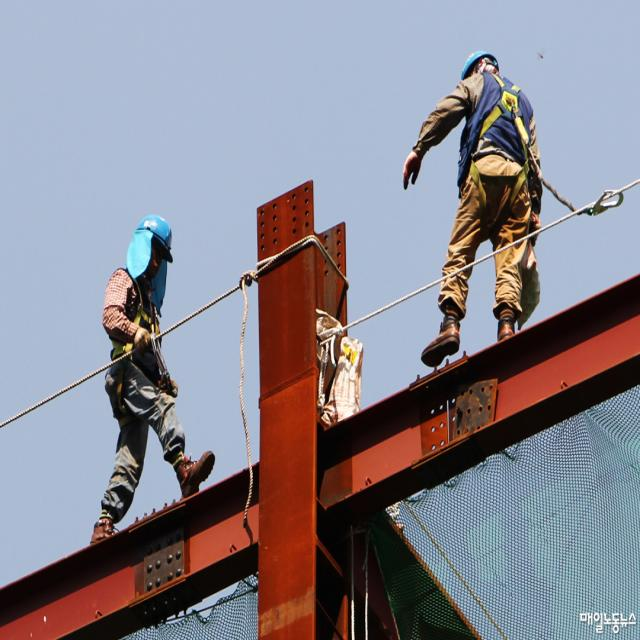Belt: (458, 69, 541, 225)
worker: (397, 49, 562, 354), (102, 206, 214, 534)
